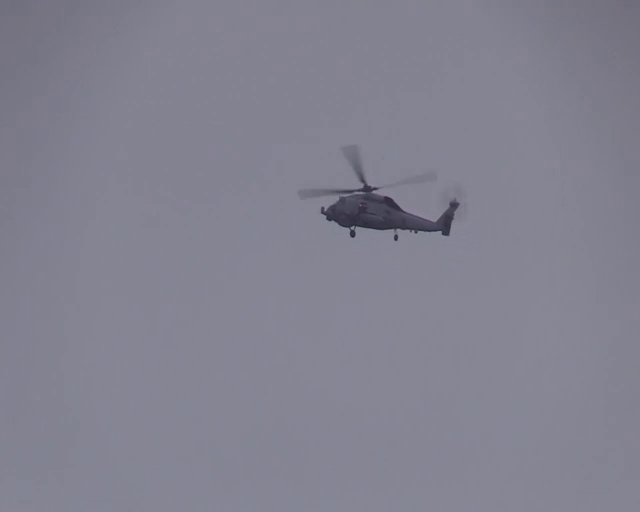HELICOPTER: (296, 142, 459, 242)
